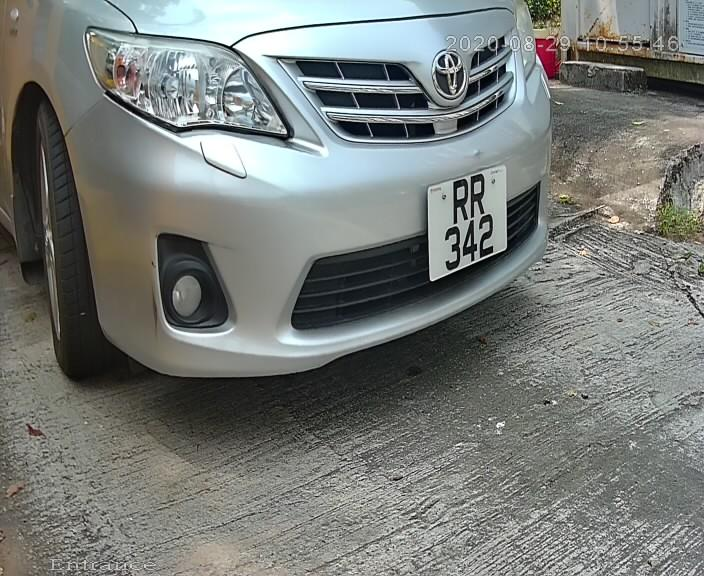License Plate: (419, 157, 516, 286)
